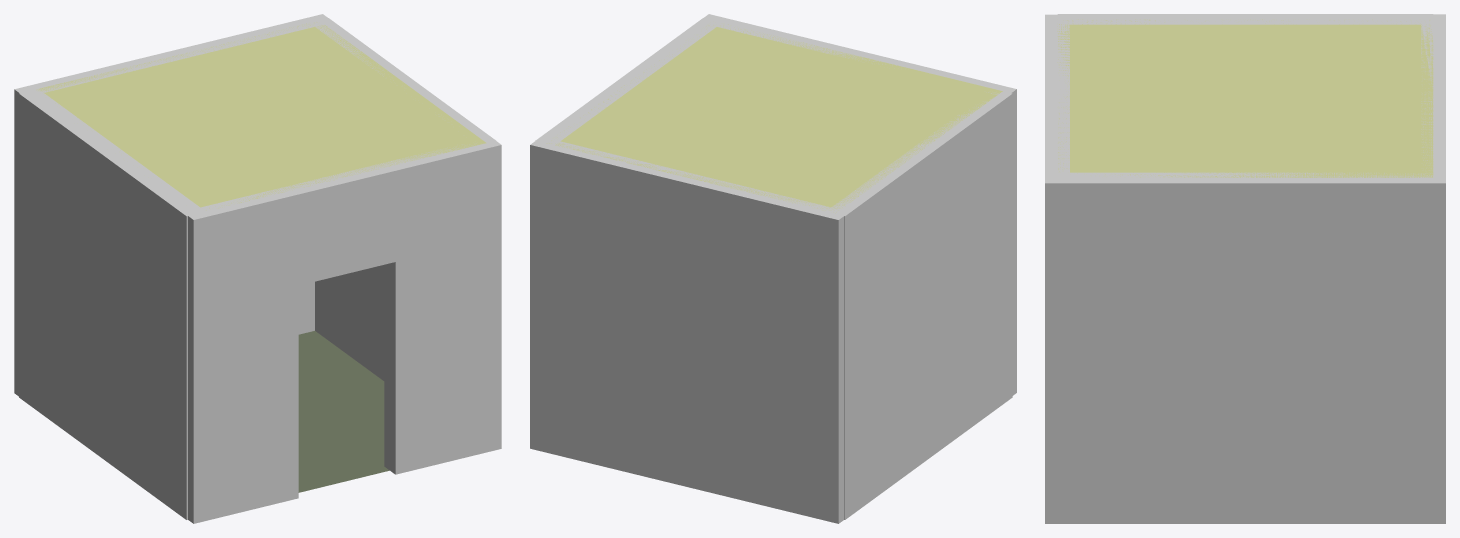
File: Room01_Cell.fbx
3 renders of one model, left to right at view 1: azimuth 30°, elevation 25°; view 2: azimuth 150°, elevation 25°; view 3: azimuth 270°, elevation 25°, orthographic. The views are drawn at different scales.
Visible parts, largest first — view 1: Room01_Cell; view 2: Room01_Cell; view 3: Room01_Cell.
Boxes of the visible parts, x1,y1,x2,y2 form: Room01_Cell: (14, 14, 501, 523); Room01_Cell: (530, 14, 1016, 523); Room01_Cell: (1045, 14, 1445, 523).
Size of the model in its own units: 3.2 by 3 by 3.2.
